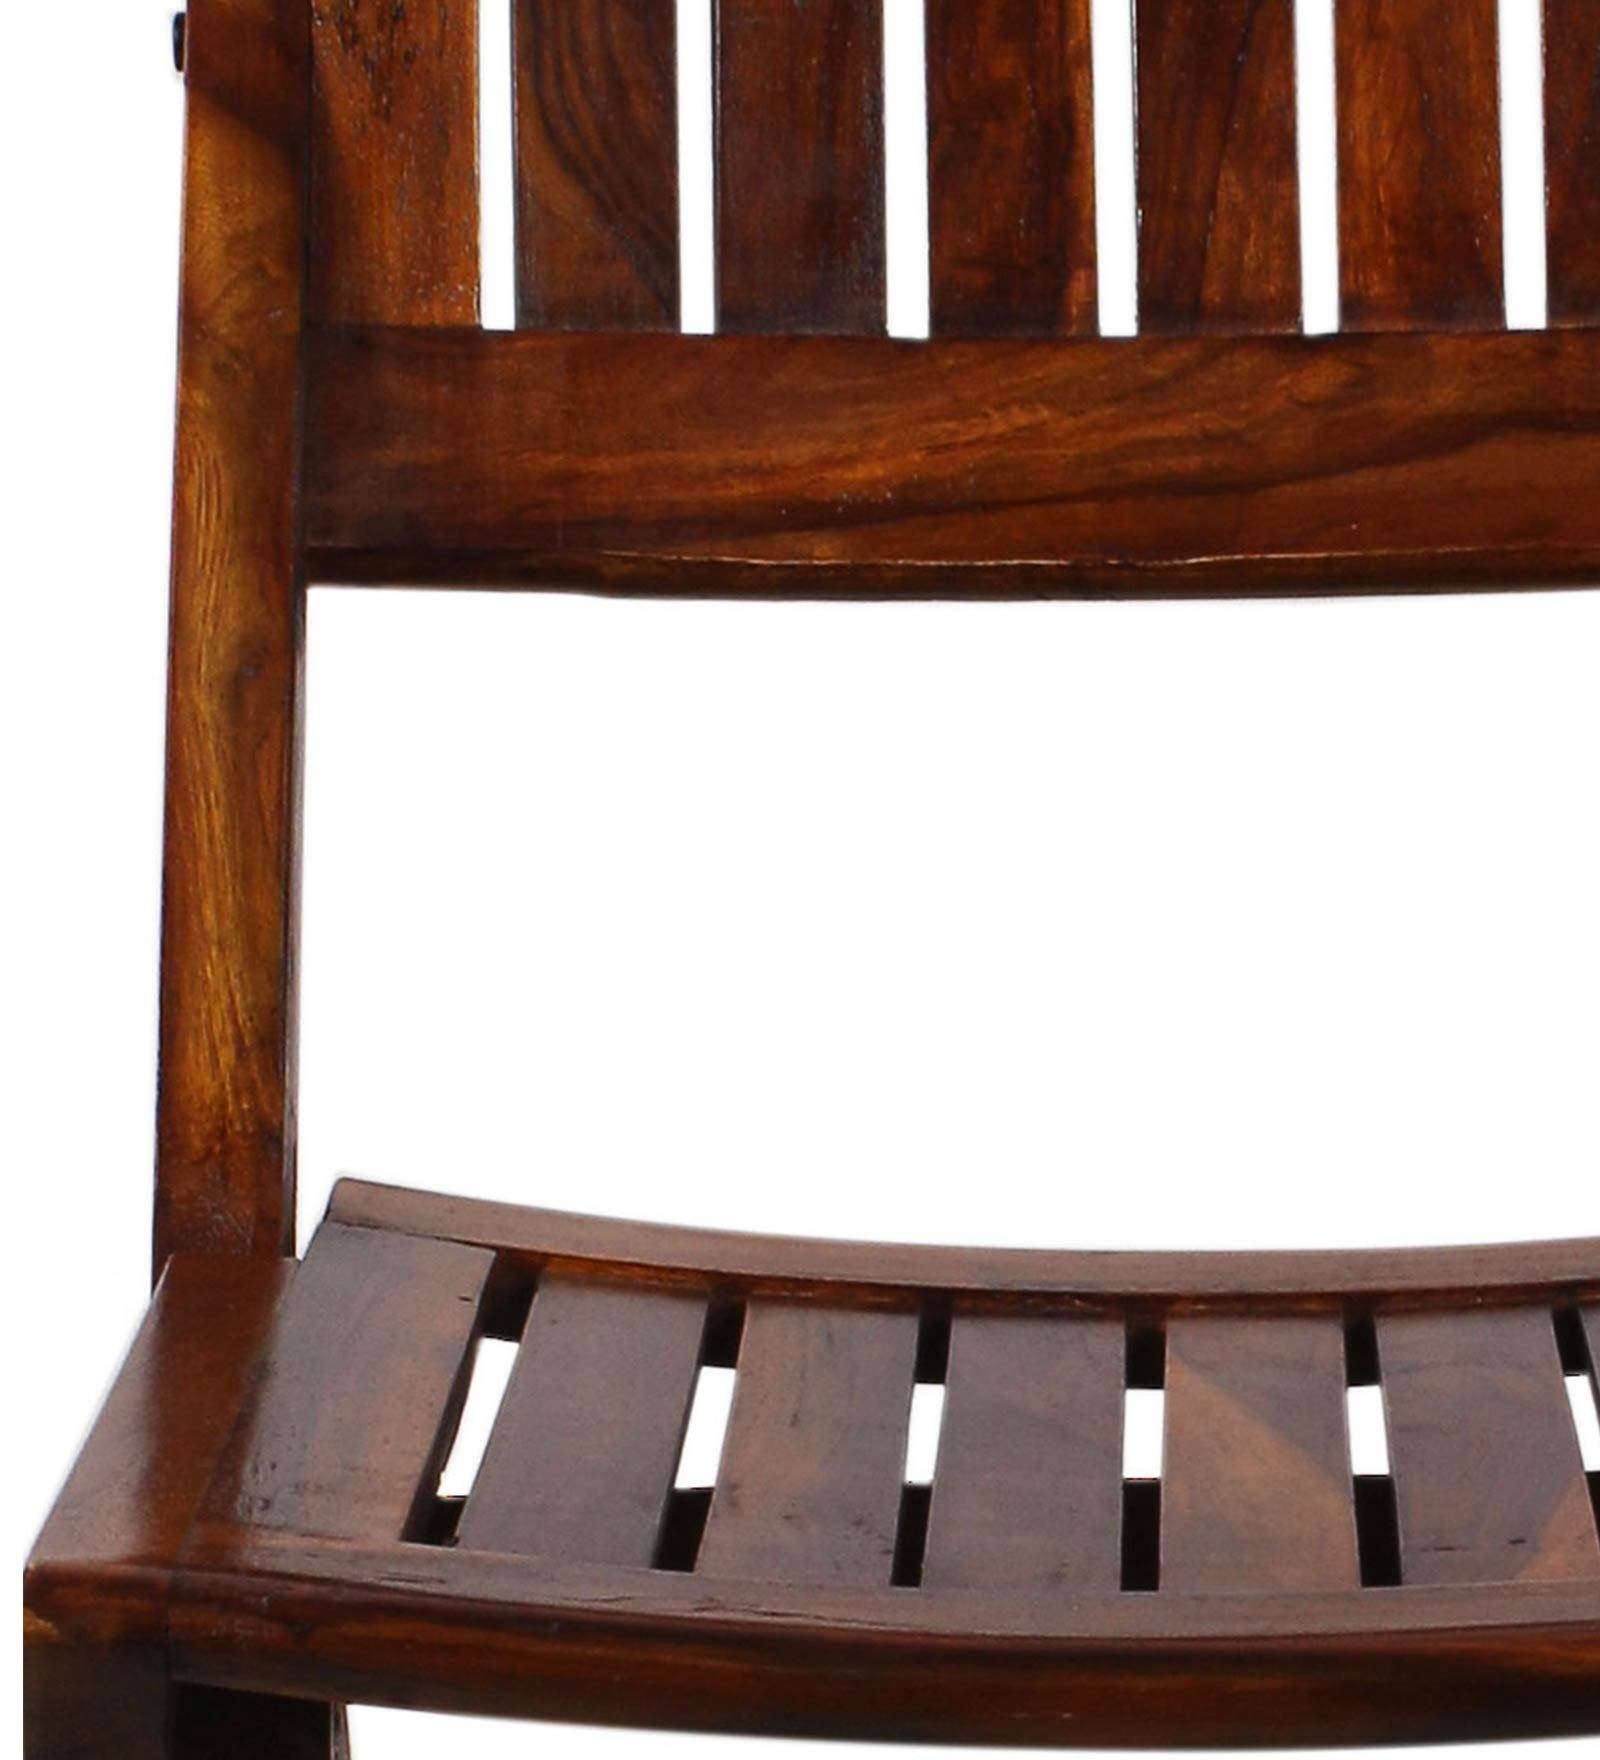Sheesham Wood Folding Chair in Walnut Finish by VarEesha: (152, 18, 1577, 1752)
